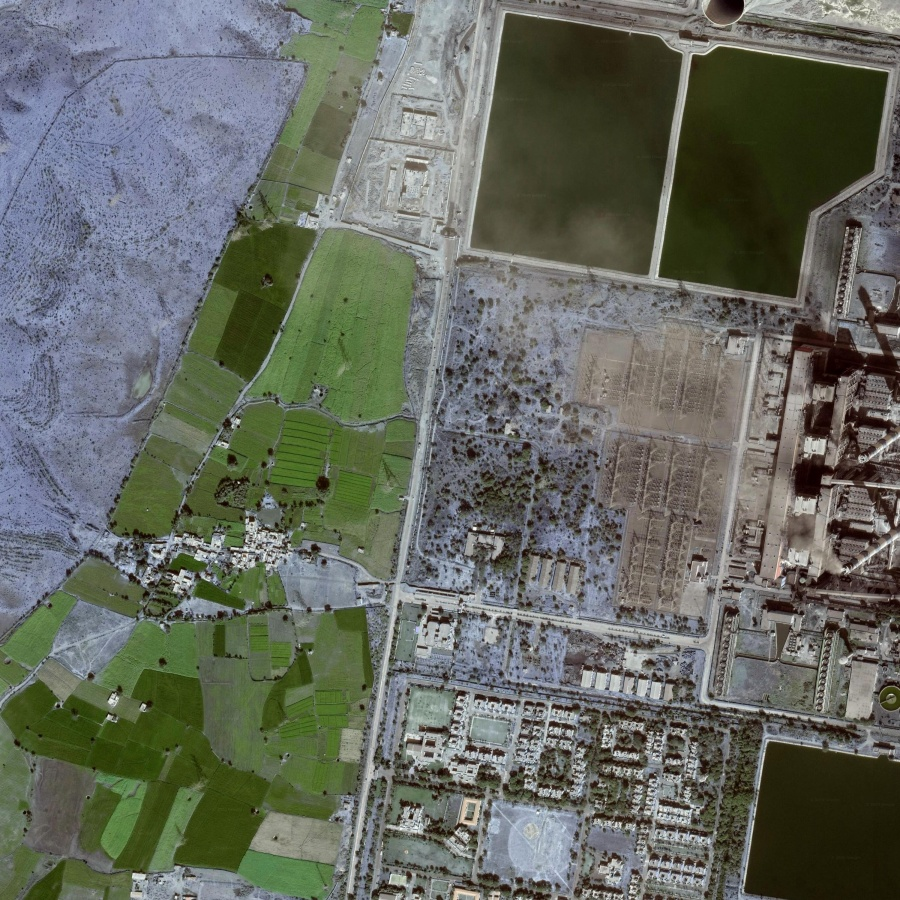PowerPlant: (457, 8, 896, 316)
